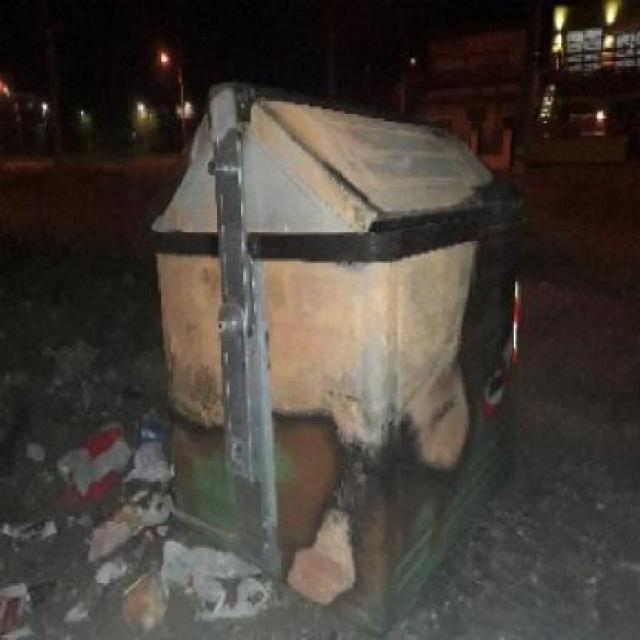garbage: (59, 422, 192, 621), (5, 509, 52, 630), (199, 546, 268, 617)
